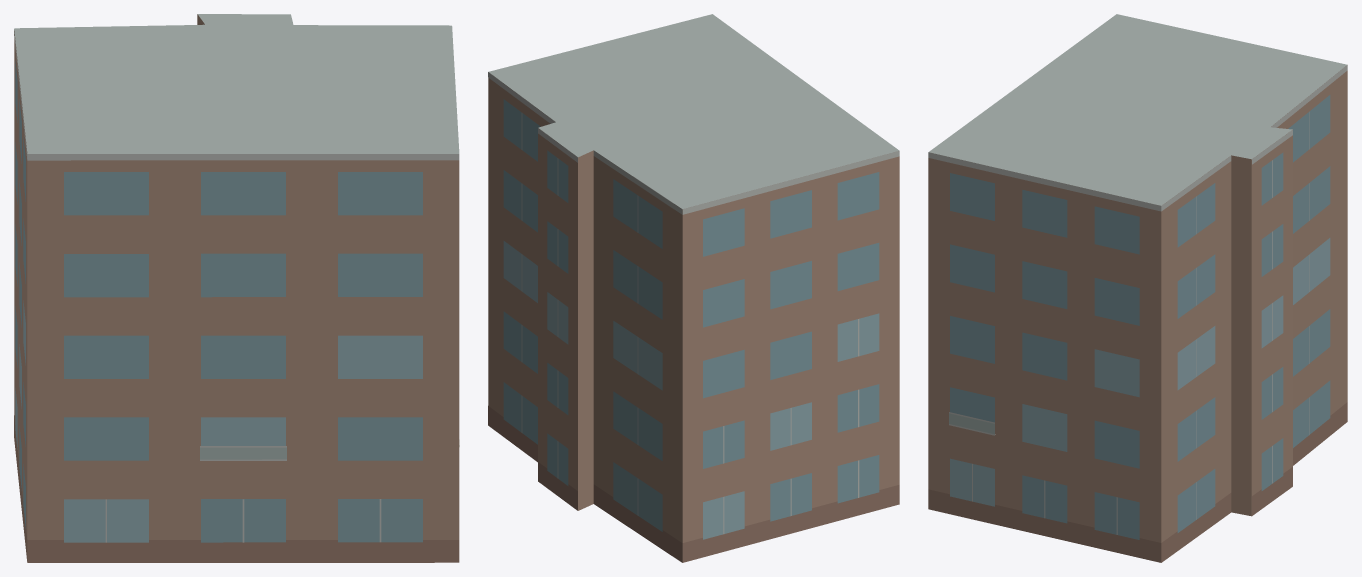
File: survey-upis-32878419.glb
The picture shows the model from 3 angles, left to right: view 1: azimuth 30°, elevation 25°; view 2: azimuth 150°, elevation 25°; view 3: azimuth 270°, elevation 25°; orthographic projection. The views are drawn at different scales.
Parts seen in each view (by area): view 1: survey-upis-32878419.tmp; view 2: survey-upis-32878419.tmp; view 3: survey-upis-32878419.tmp.
Boxes of the visible parts, x1,y1,x2,y2 form: survey-upis-32878419.tmp: (14, 14, 459, 562); survey-upis-32878419.tmp: (488, 14, 899, 562); survey-upis-32878419.tmp: (928, 14, 1347, 562).
Bounding box in the file's own units: 17.64 × 15.3 × 16.29.
